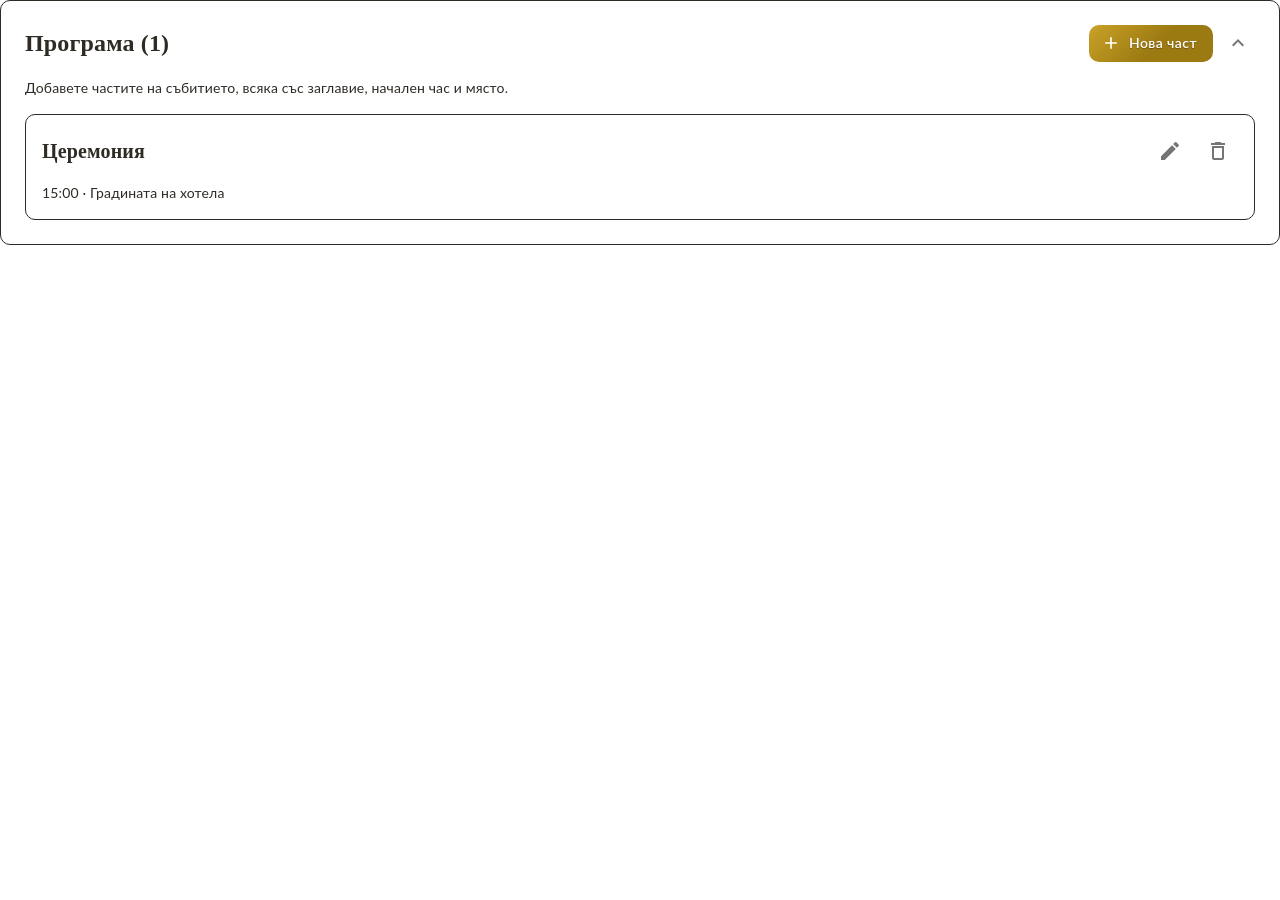
Test: SchedulePanel › deletes a part after confirmation
Click the button named "Изтрий Церемония" at (1218, 150), box [1198,130,1238,170]
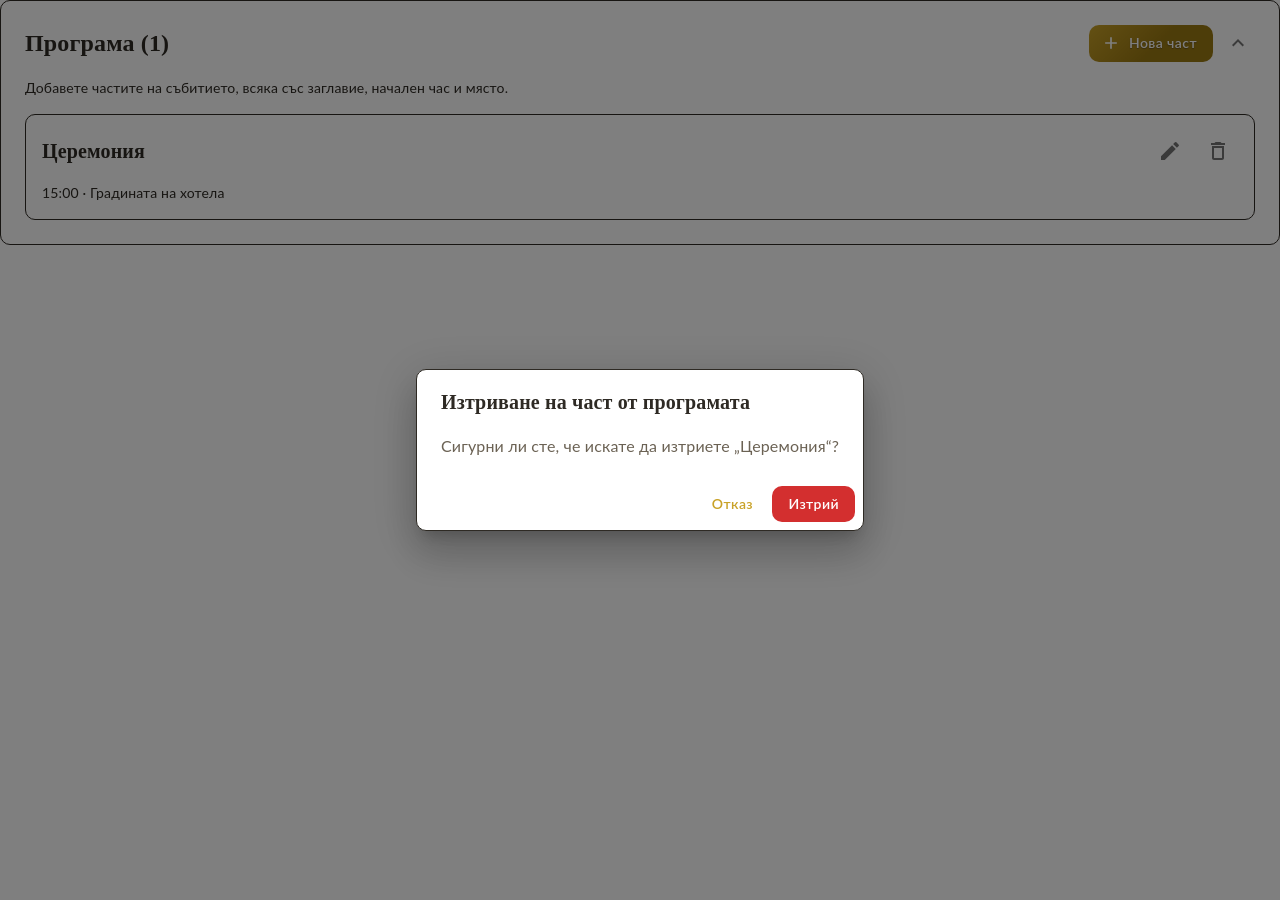
Click the button "Изтрий" at (814, 504), box [772,486,855,522]
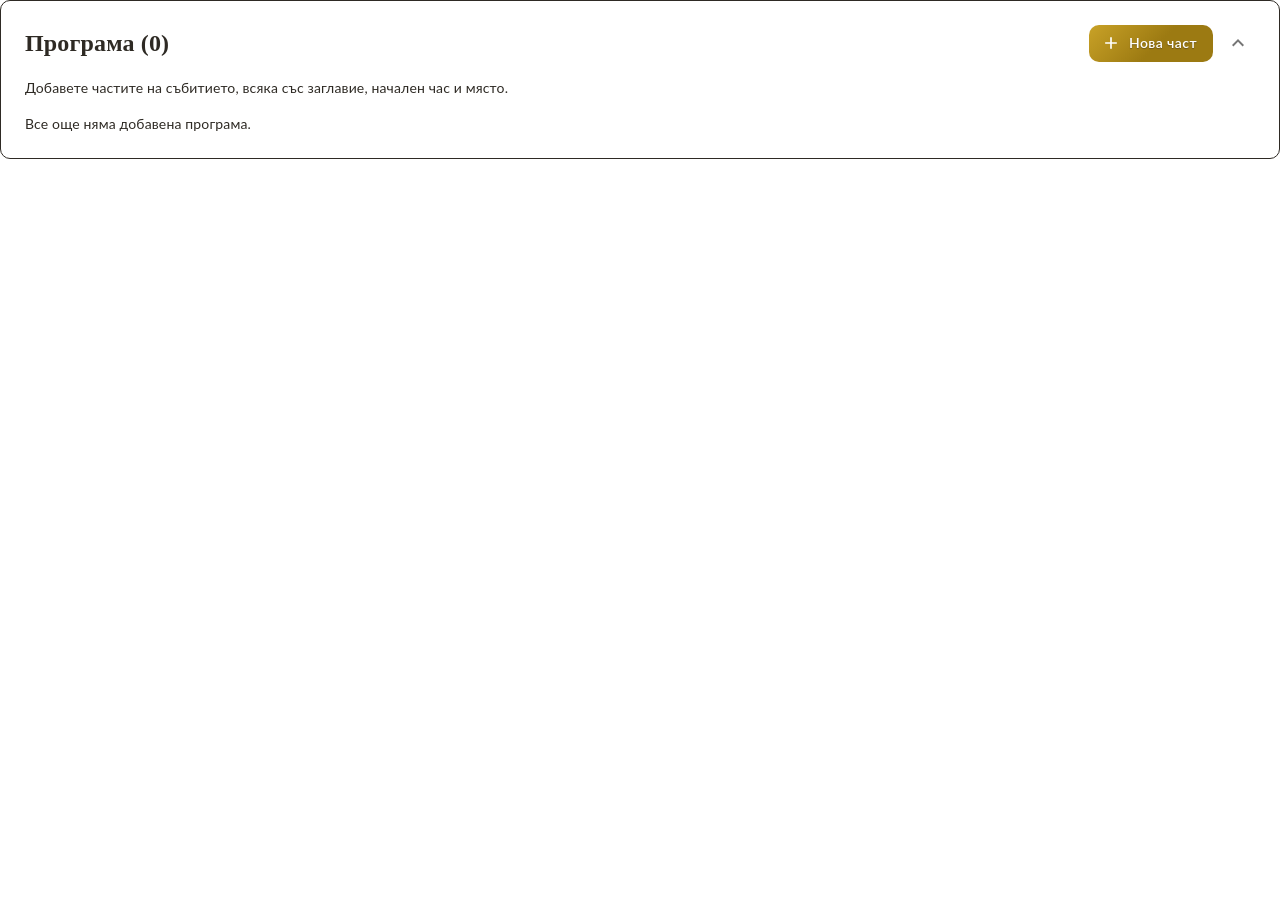
Expected: the heading "Церемония" is gone
Expected: the text "Все още няма добавена програма." is shown, [25,114,251,132]
